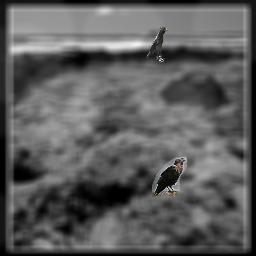Crow: (152, 157, 187, 197), (146, 27, 168, 63)
